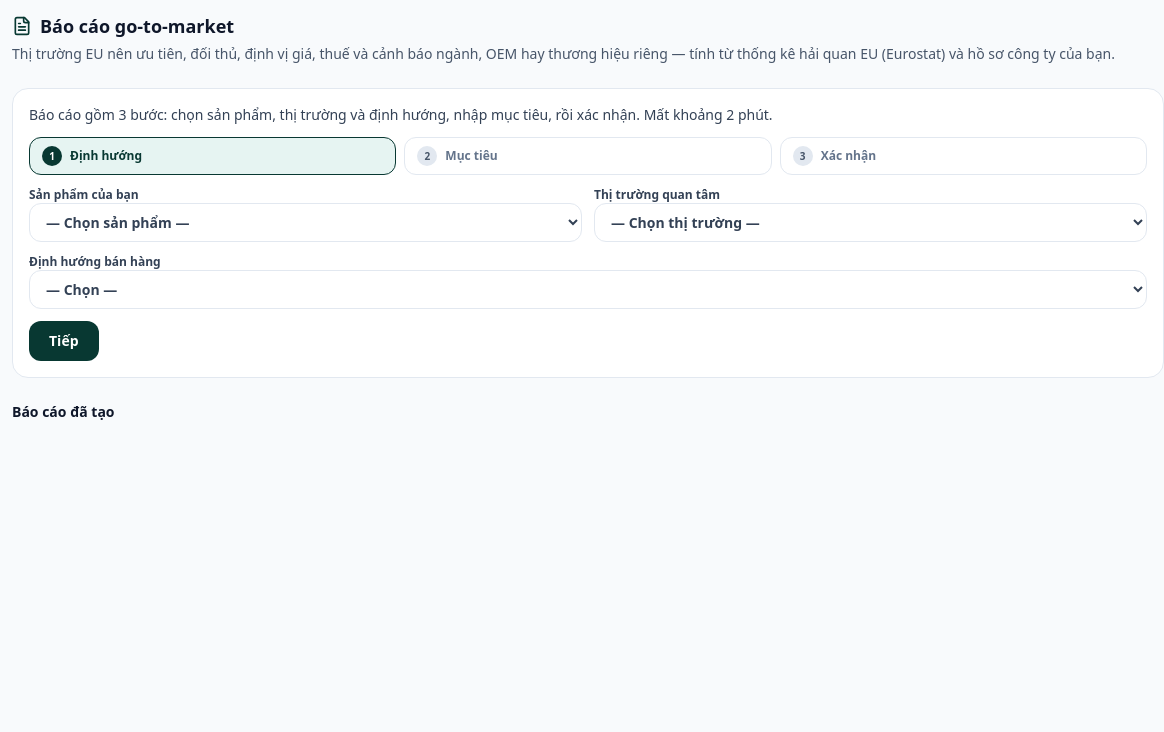
Báo cáo go-to-market (U18) › thị trường định hướng bắt buộc: thiếu thì không qua bước 1
The image size is (1164, 732).
Select "Cá tra phi lê" in the dropdown labelled "Sản phẩm của bạn". click: (306, 222)
box: [29,203,582,242]
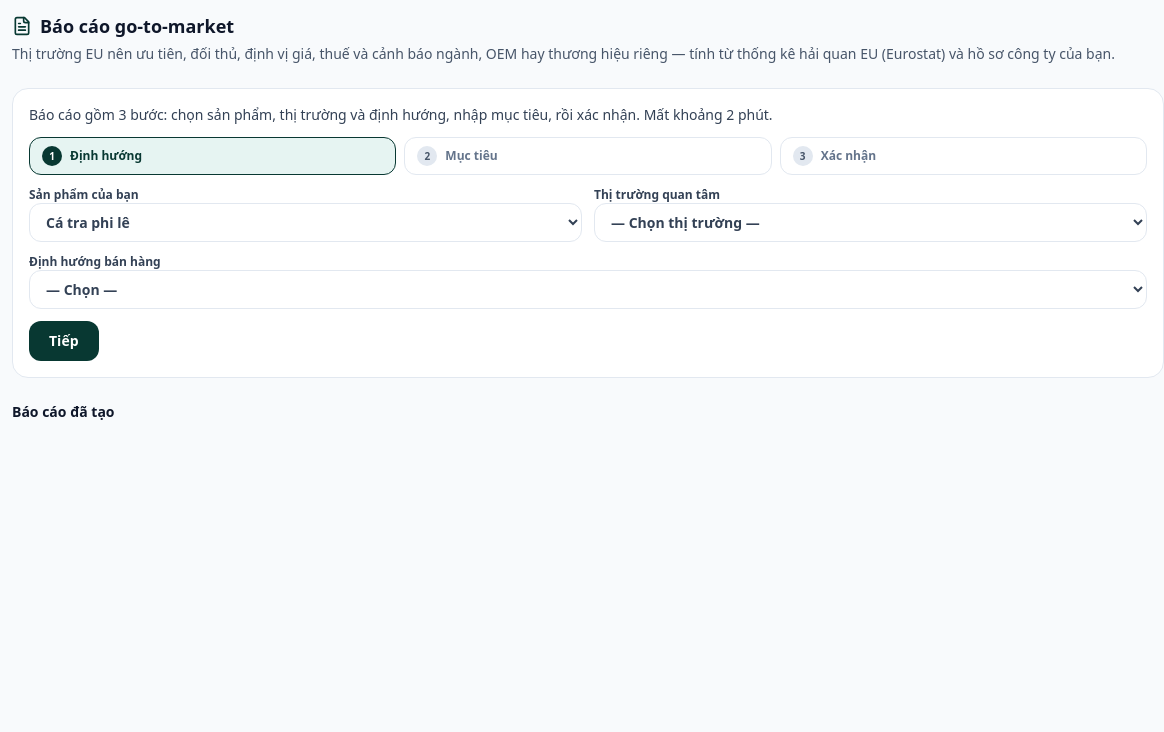
Select "Bán thô, giao tại kho" in the dropdown labelled "Định hướng bán hàng". click: (588, 290)
box: [29,270,1147,309]
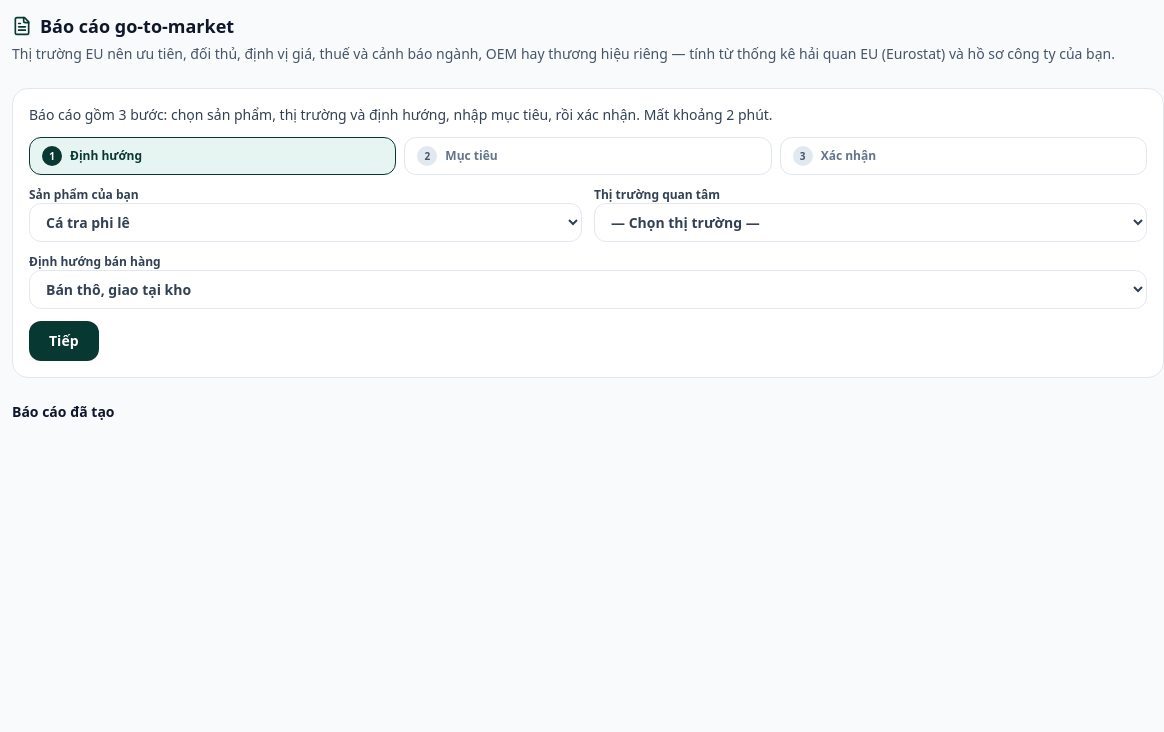
Click the button "Tiếp". click: click(64, 341)
box: [29,321,98,361]
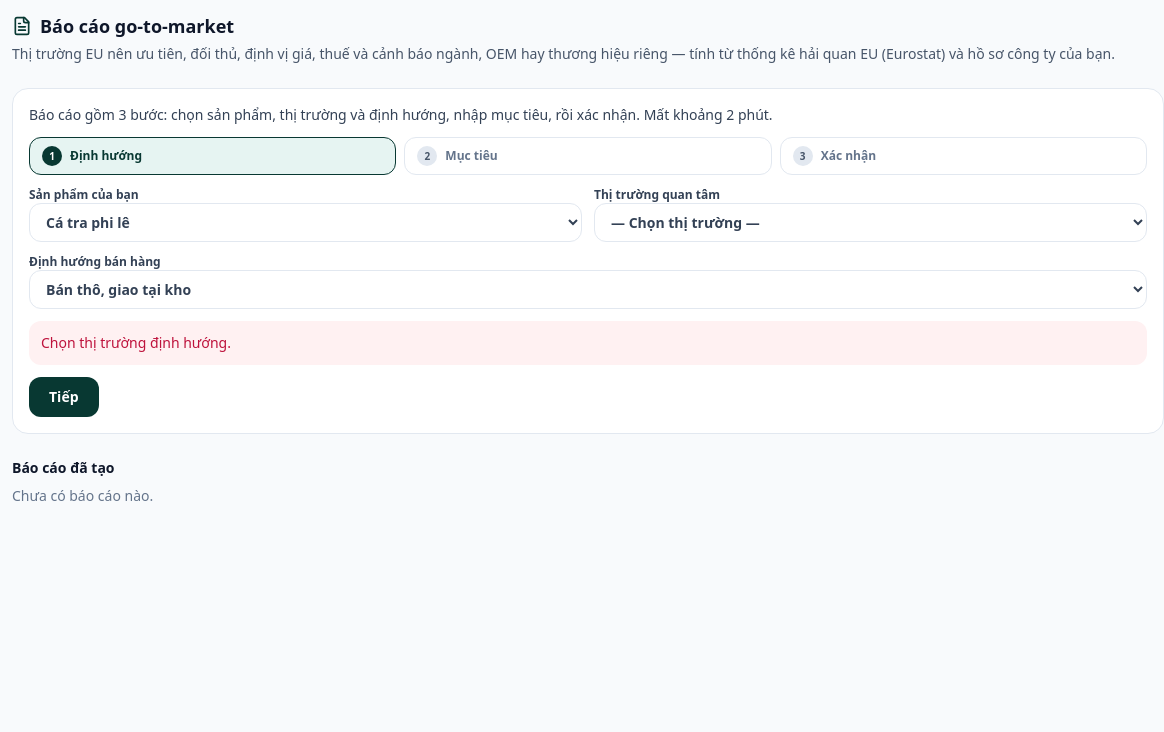
Expected: the message reads "Chọn thị trường định hướng.", [41,333,231,352]
